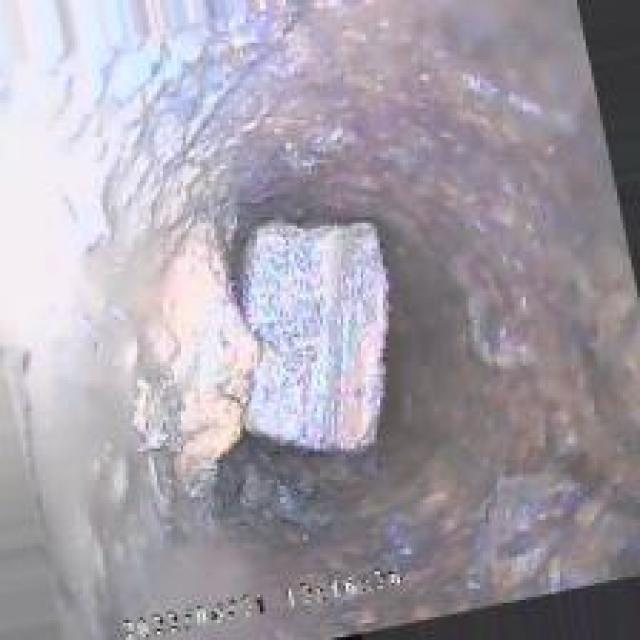stone: (235, 212, 392, 457)
